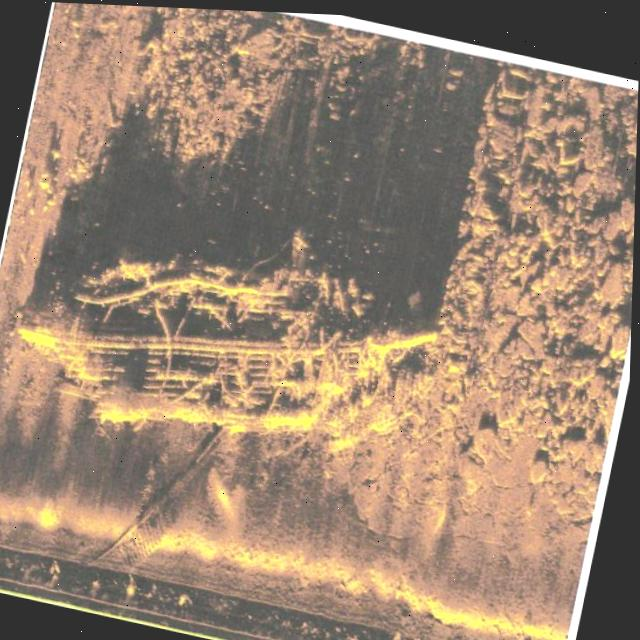shipwreck: (1, 188, 455, 483)
